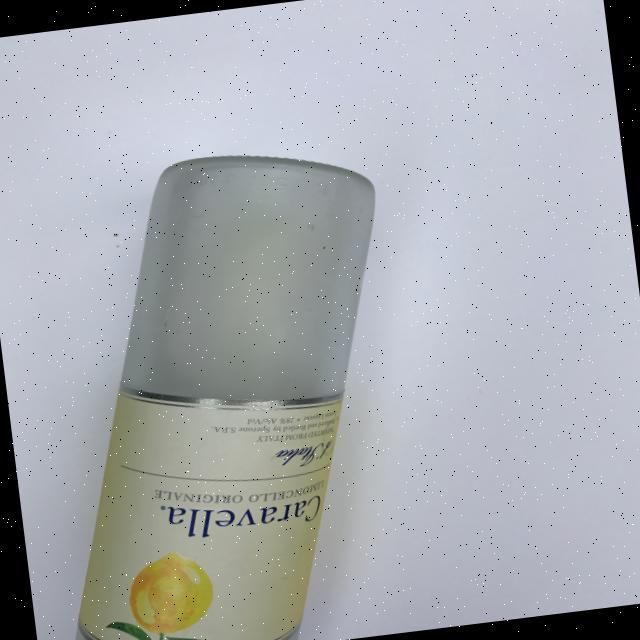glass: (18, 136, 429, 640)
